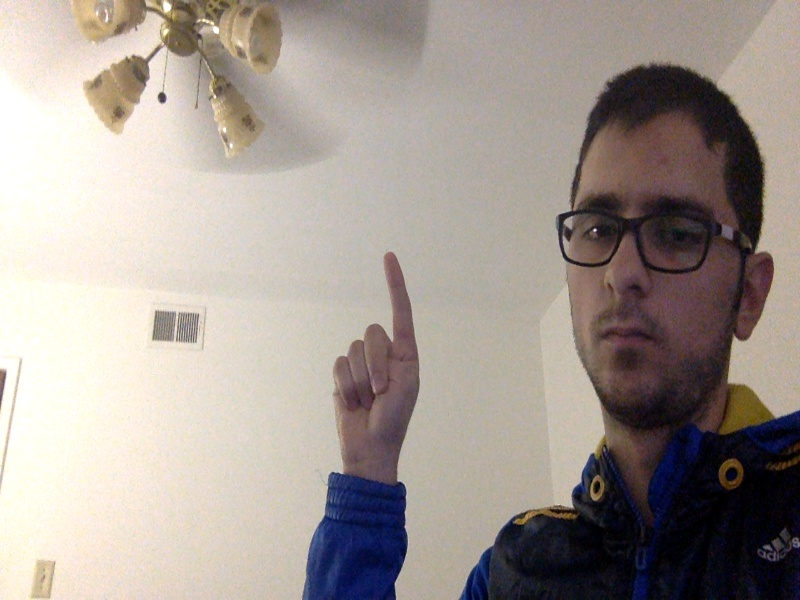1-hand: (331, 253, 420, 475)
